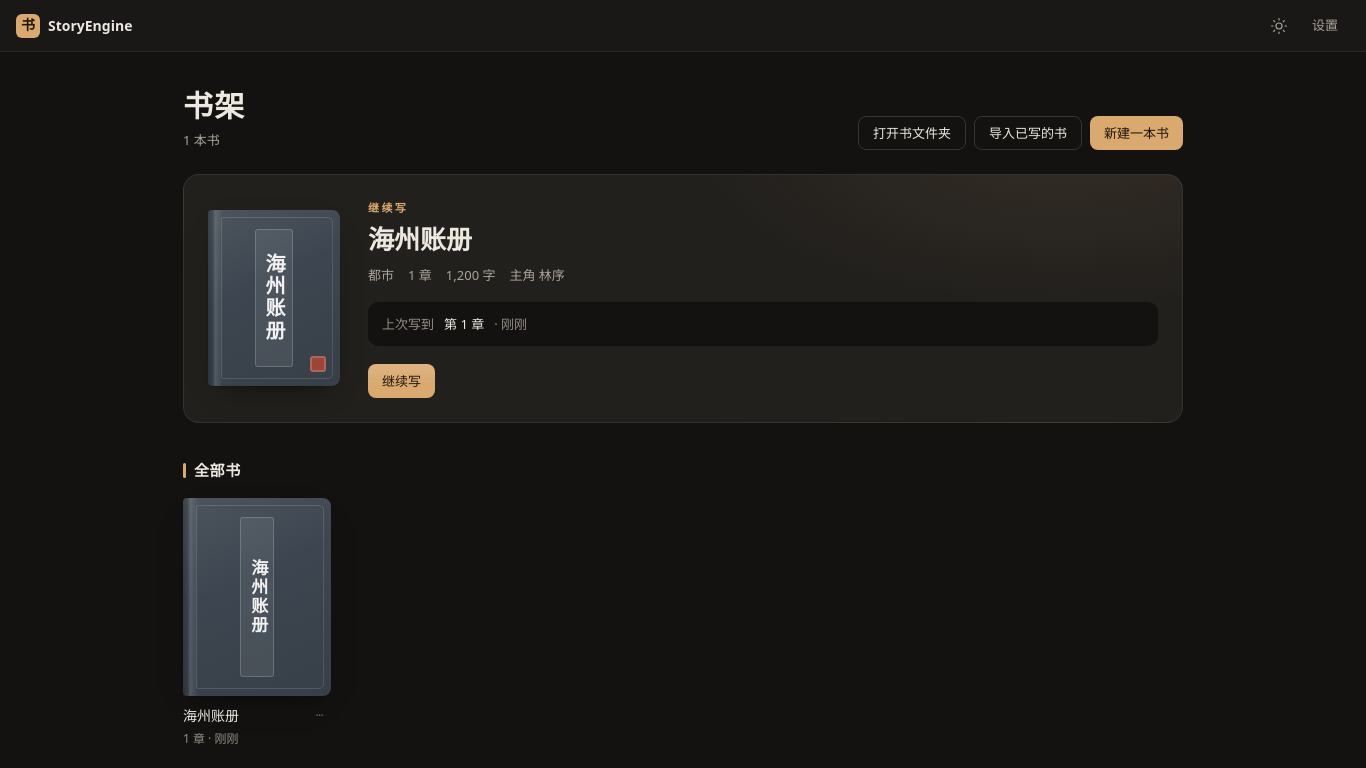
Test case: HomeLanding › 点菜单内动作后菜单关闭（不再常驻盖住「···」按钮，V6 回归根因）
Click the button named "书籍管理" at {"x": 319, "y": 717}, box [307,706,331,728]
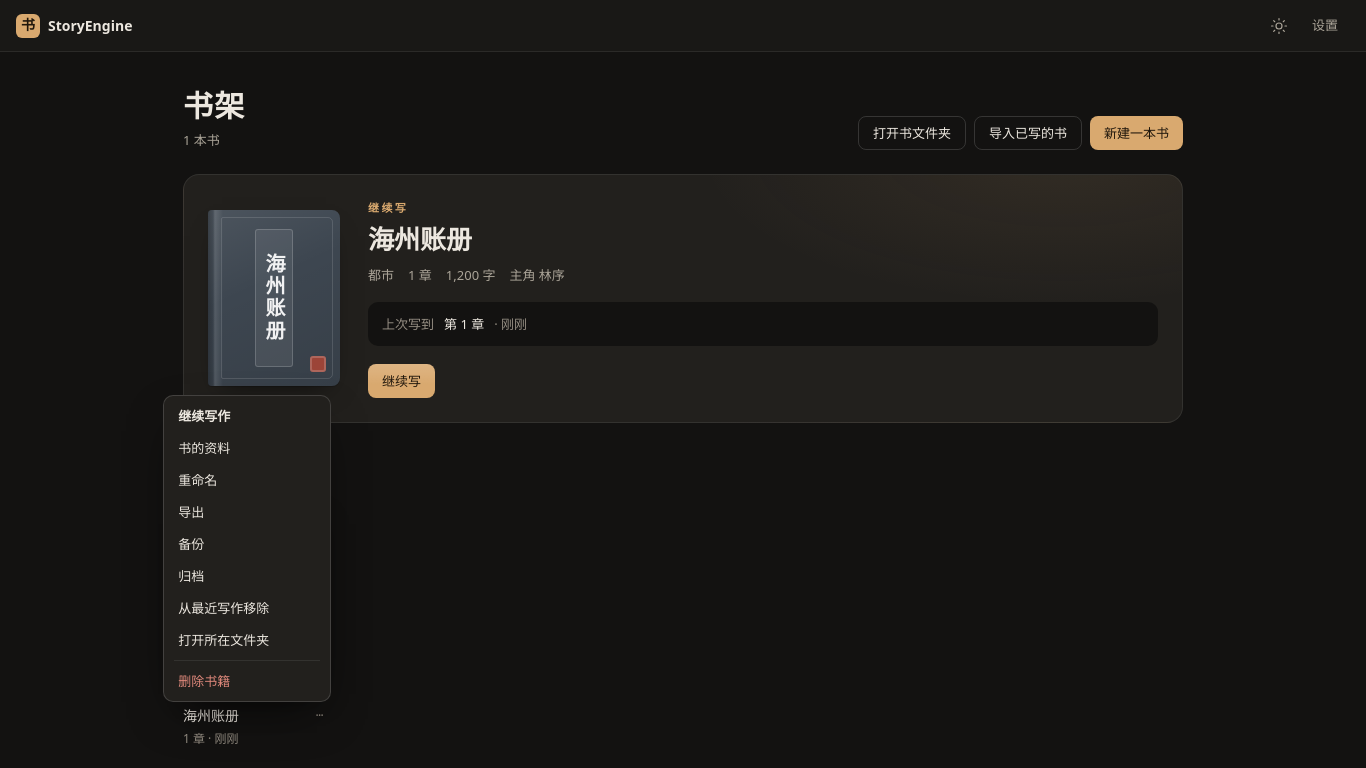
expect the button "继续写作" is shown: met
Click the button "继续写作" at {"x": 247, "y": 416}, box [168,400,326,432]
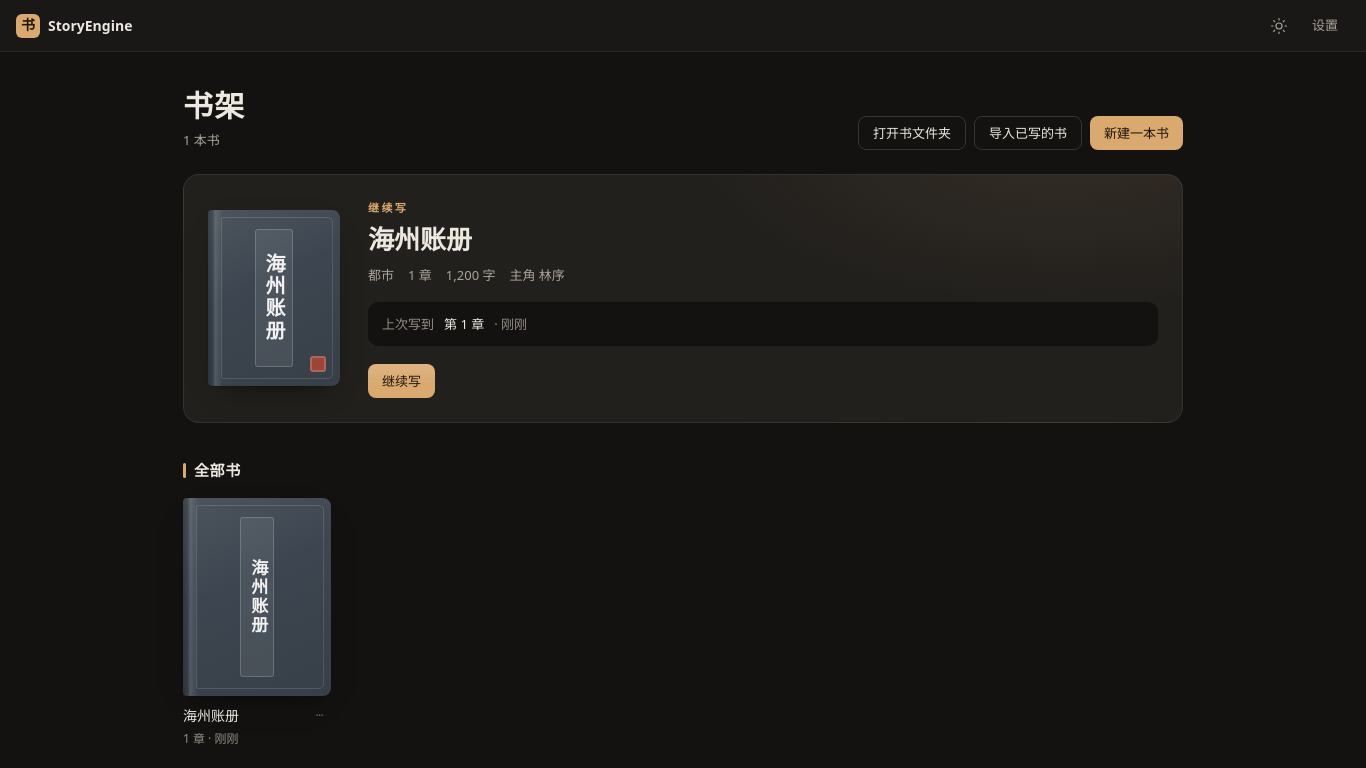
expect the button "继续写作" is gone: met
